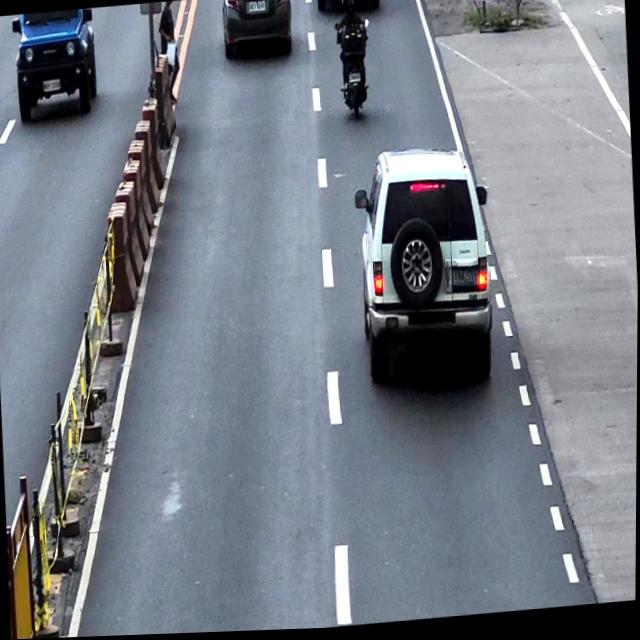Car: (351, 144, 499, 394), (10, 9, 99, 123), (220, 0, 293, 62)
License-Plate: (452, 269, 481, 290), (42, 78, 62, 93), (248, 2, 267, 16), (348, 74, 362, 86)
Motorcycle: (334, 19, 374, 123)
